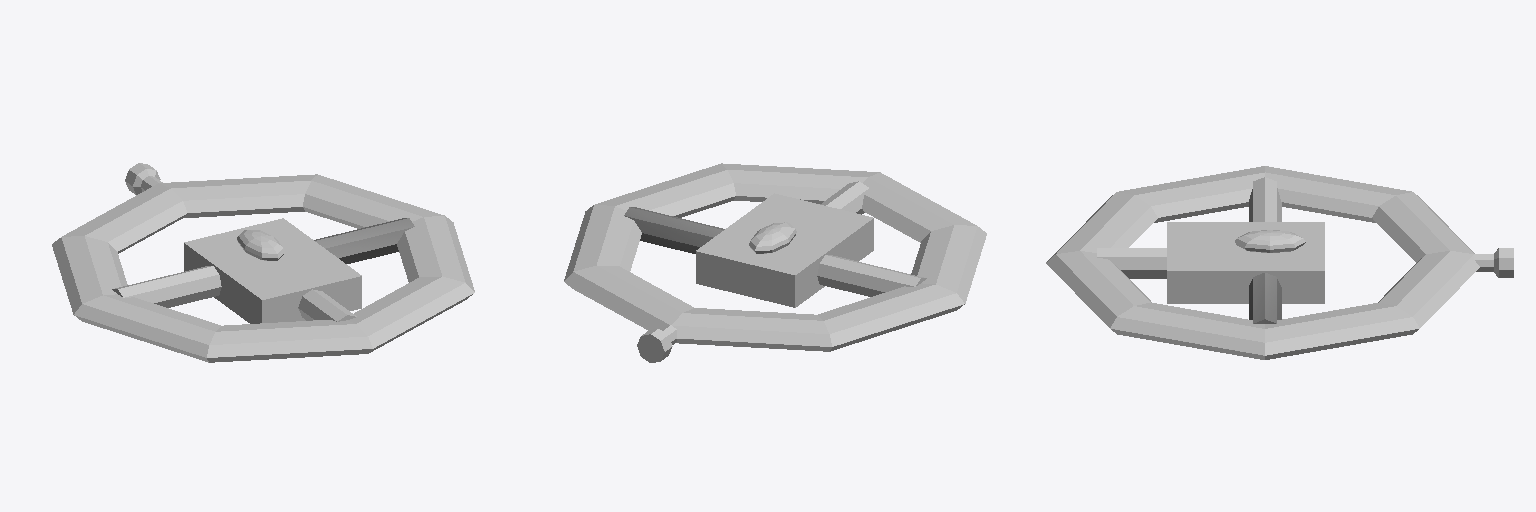
3 renders of one model, left to right at view 1: azimuth 30°, elevation 25°; view 2: azimuth 150°, elevation 25°; view 3: azimuth 270°, elevation 25°, orthographic.
Visible parts, largest first — view 1: polymsh; view 2: polymsh; view 3: polymsh.
Boxes of the visible parts, x1,y1,x2,y2 form: polymsh: [52, 163, 474, 362]; polymsh: [564, 163, 986, 362]; polymsh: [1046, 166, 1513, 359].
Size of the model in its own units: 8.88 by 1.05 by 9.49.
7 materials, 1 textured.